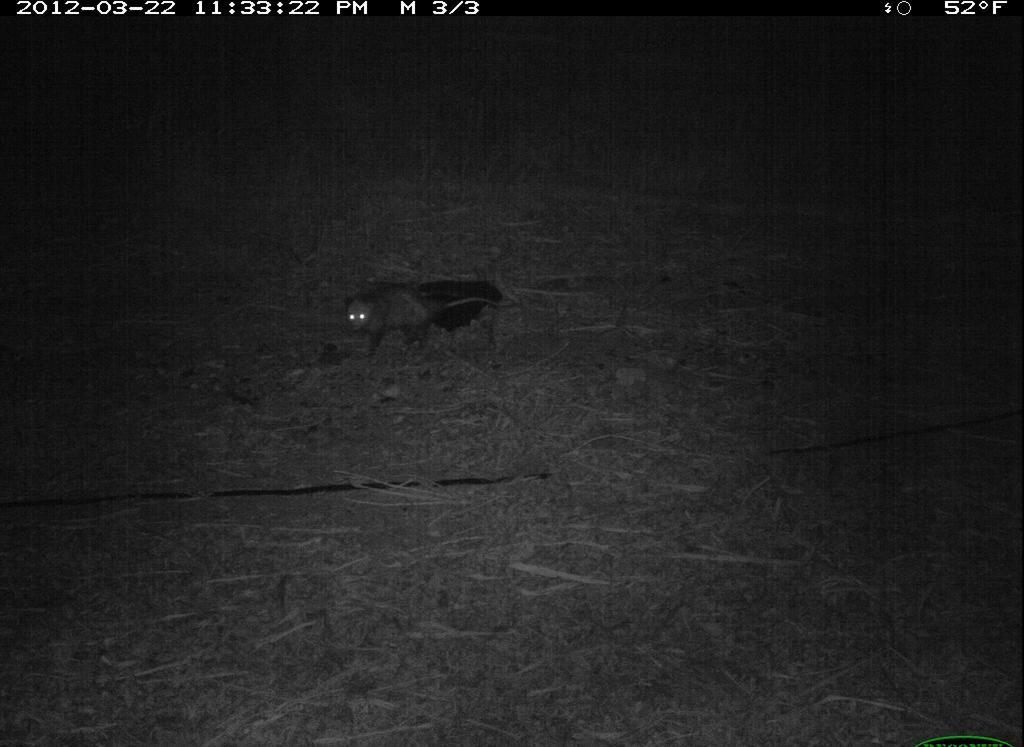opossum: (333, 271, 534, 361)
